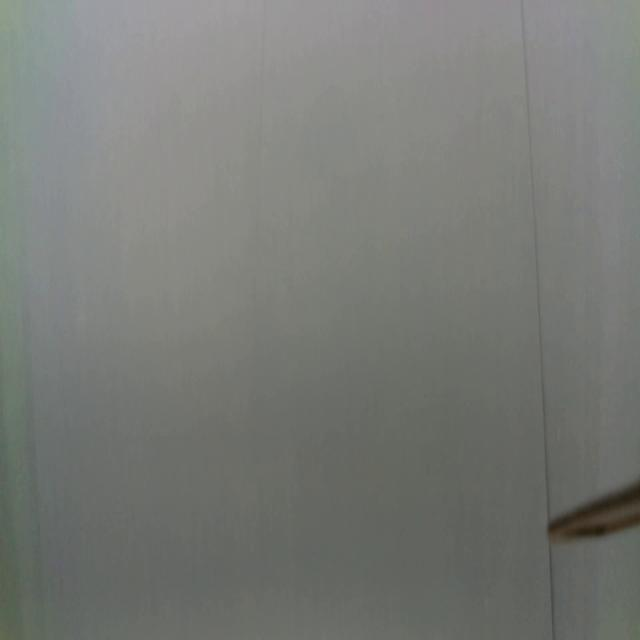crease: (520, 0, 550, 522), (549, 544, 558, 639)
